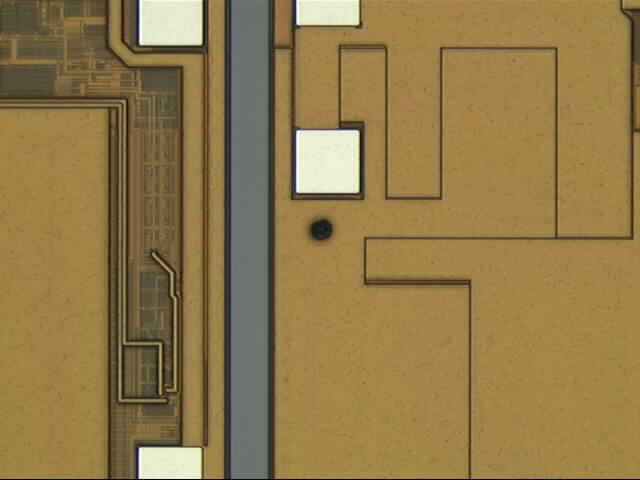PIQ PARTICLE: (304, 212, 340, 248)
